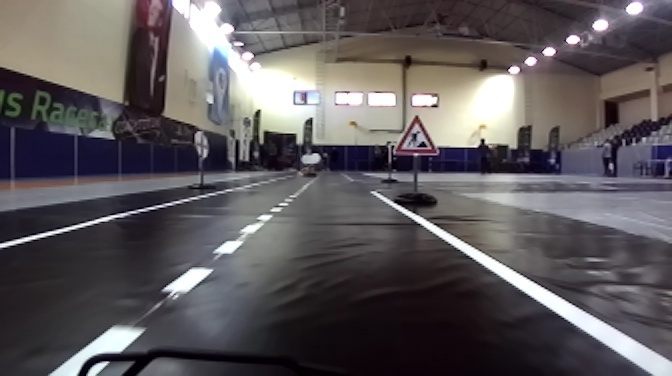yol_yapimi: (389, 113, 440, 156)
